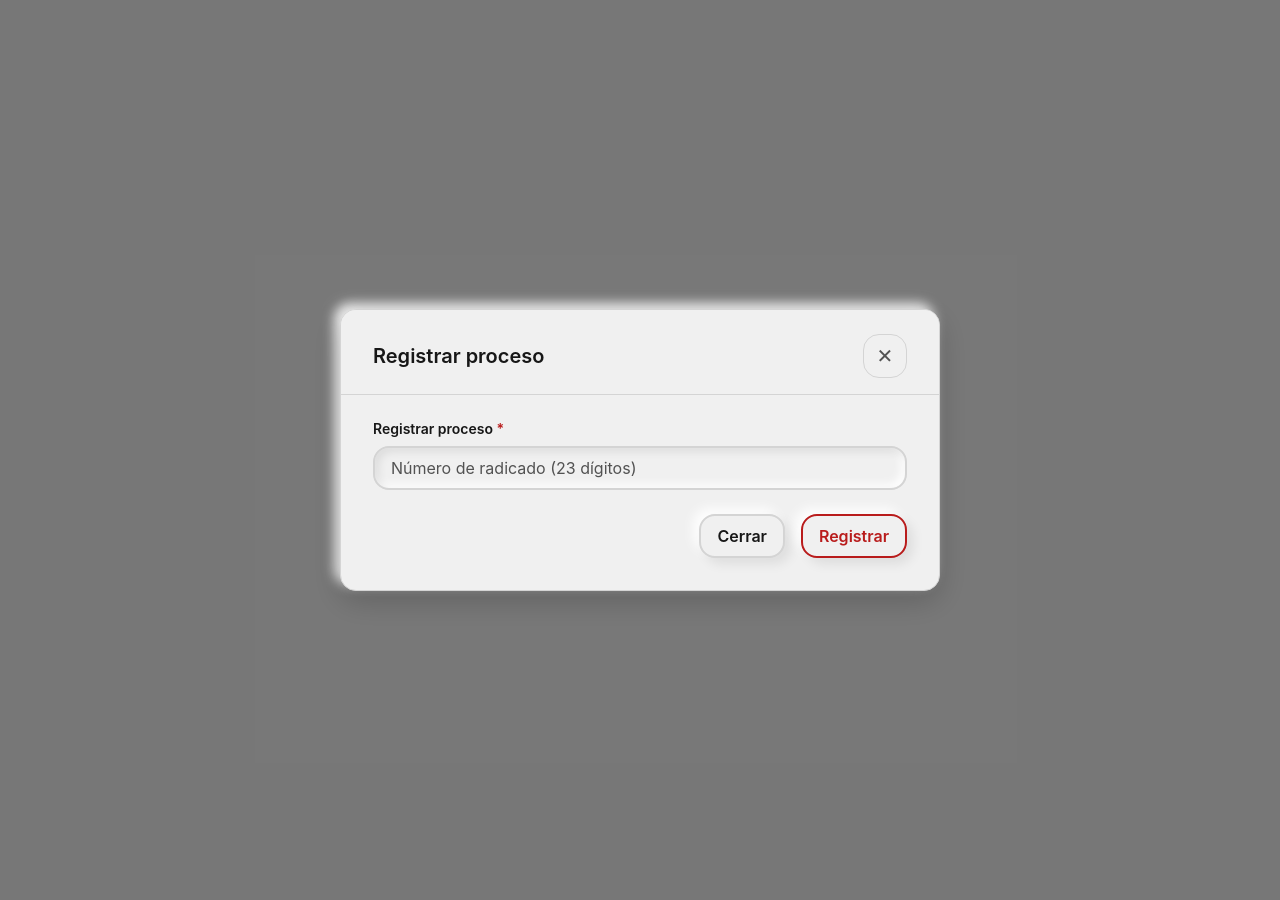
Test: ModalRegistro › muestra error de validación si el radicado no tiene 23 dígitos
The image size is (1280, 900).
Type "123" into the field at coordinates (640, 468), box [373,446,907,490]
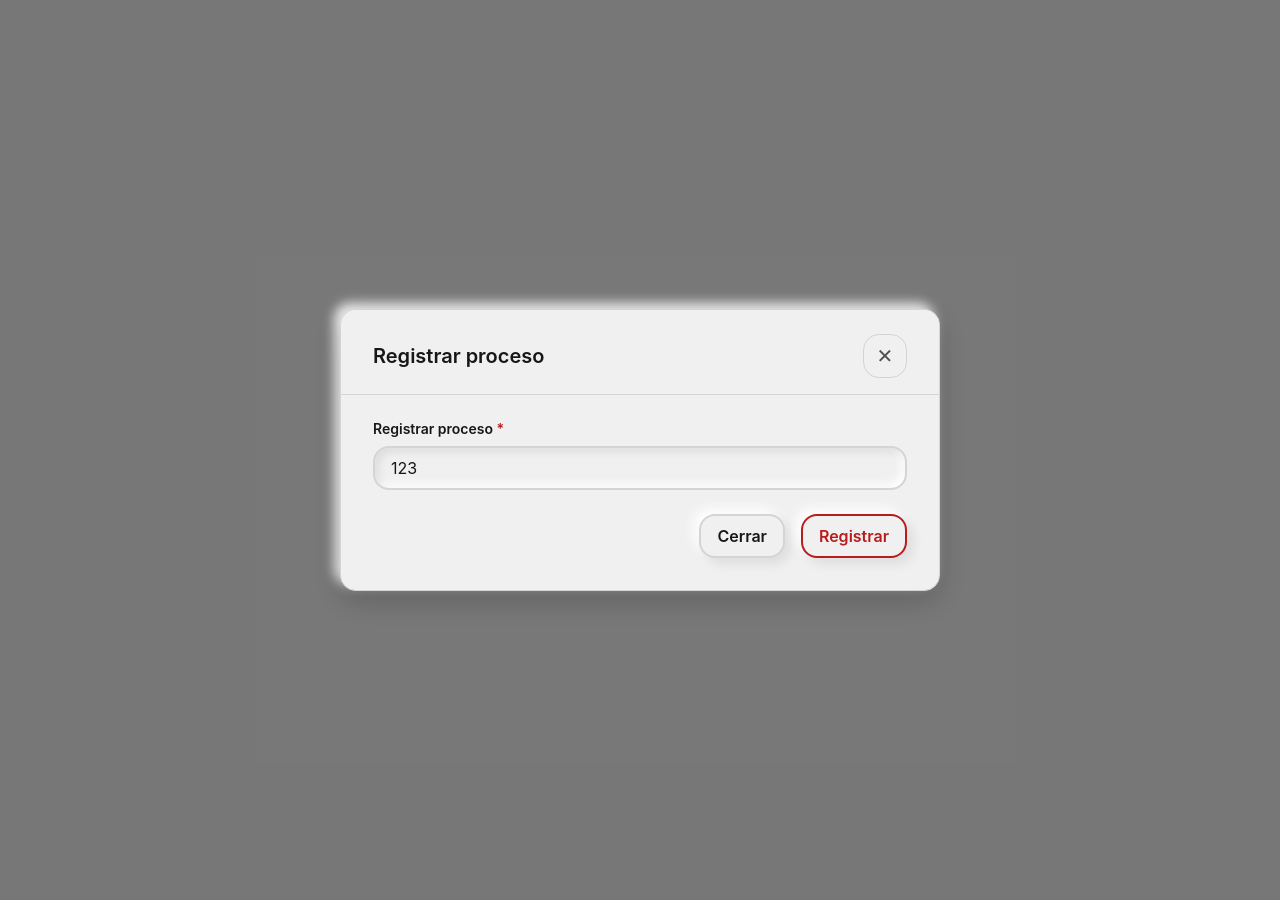
Submit the form, box [373,419,907,558]
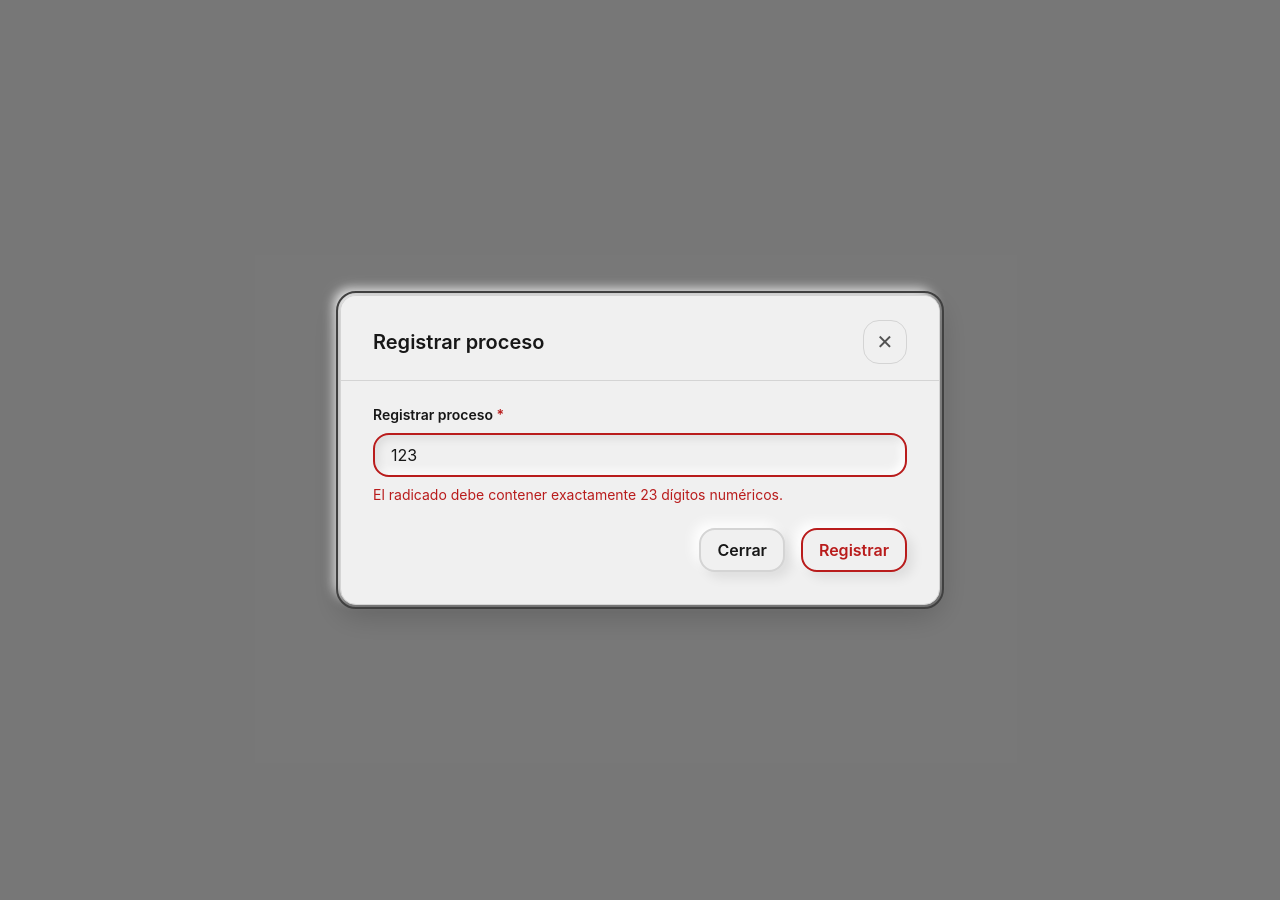
Expected: the message "El radicado debe contener exactamente 23 dígitos numéricos." is shown, [373,486,783,502]
